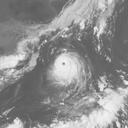cyclone: (50, 52, 87, 88)
